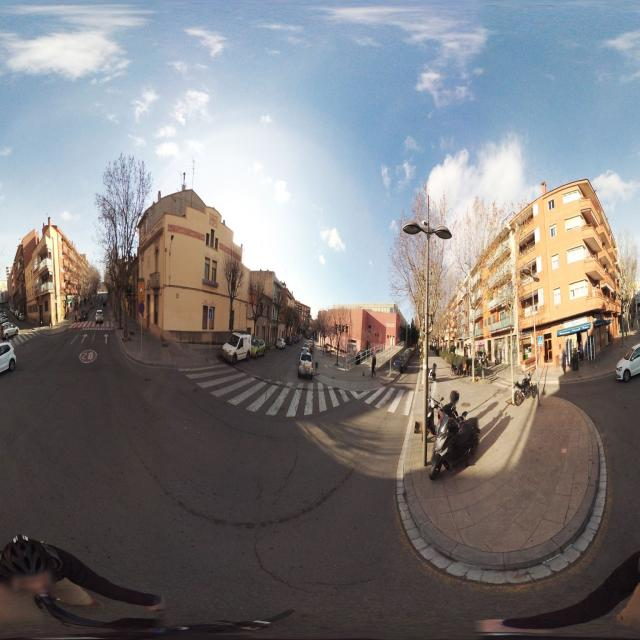forb_stopping: (138, 301, 144, 315)
